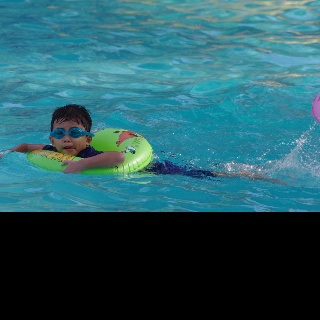without_mask: (49, 103, 95, 156)
